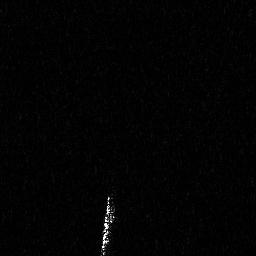ship: (98, 190, 119, 256)
